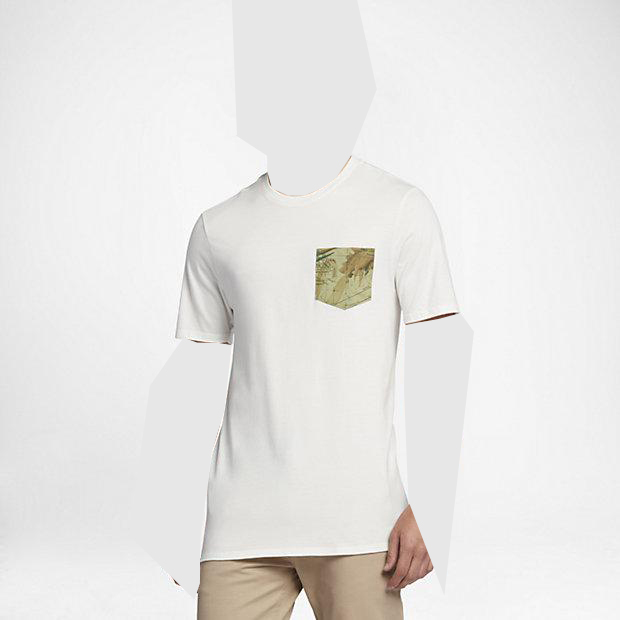teeshirt: (168, 157, 465, 564)
